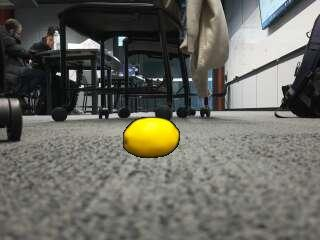lemon: (125, 117, 180, 157)
